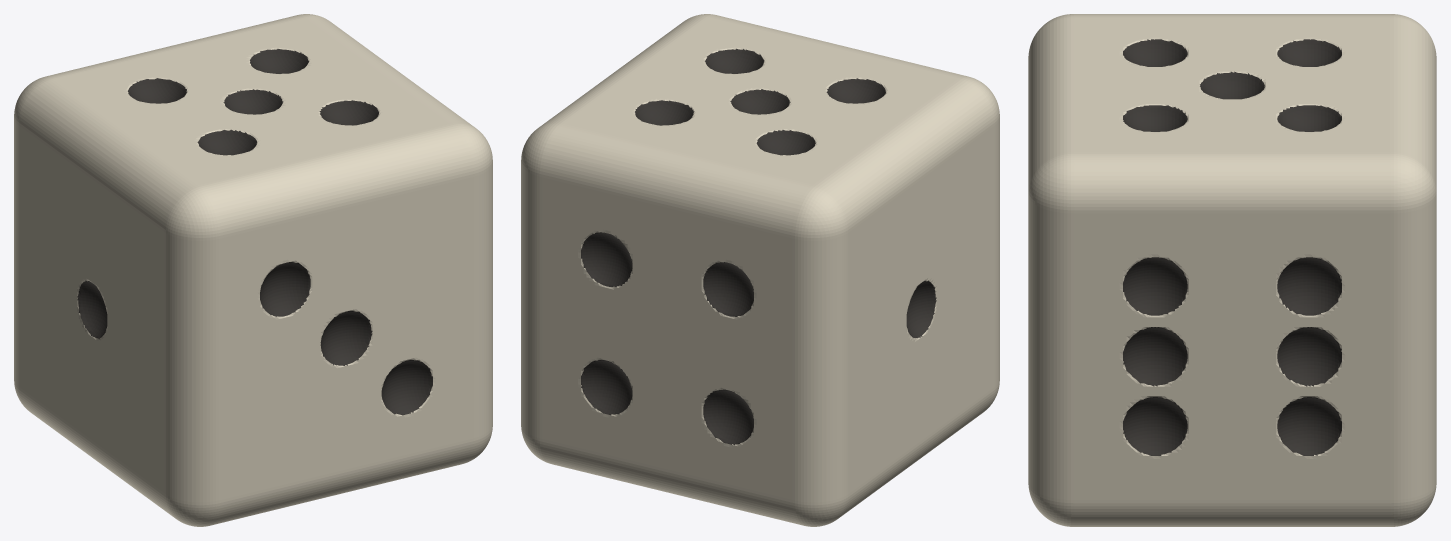
File: true-d6.glb
3 renders of one model, left to right at view 1: azimuth 30°, elevation 25°; view 2: azimuth 150°, elevation 25°; view 3: azimuth 270°, elevation 25°, orthographic. The views are drawn at different scales.
Visible parts, largest first — view 1: IvoryBody, GlossBlackPips; view 2: IvoryBody, GlossBlackPips; view 3: IvoryBody, GlossBlackPips.
Part boxes in pixels (box(x1,y1,x2,y2)): IvoryBody: box(14, 14, 492, 526); GlossBlackPips: box(77, 49, 432, 415); IvoryBody: box(521, 14, 999, 526); GlossBlackPips: box(581, 48, 936, 445); IvoryBody: box(1028, 14, 1436, 526); GlossBlackPips: box(1123, 39, 1341, 455).
Size of the model in its own units: 1.64 by 1.64 by 1.64.
